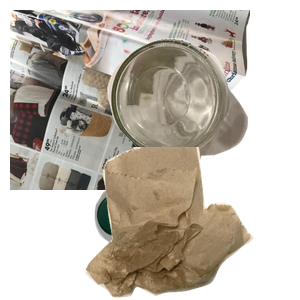glass: (105, 36, 300, 201)
paper: (10, 10, 250, 190)
plastic: (92, 176, 257, 300)
trash: (83, 147, 300, 300)
